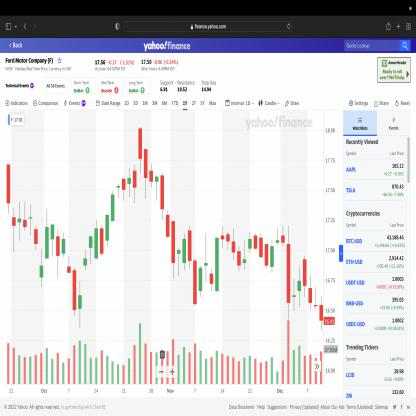Bearish 3 Black Crows: (159, 170, 176, 282)
Bearish Abandoned Baby: (198, 230, 214, 300)
Bearish Kicker: (61, 230, 72, 276)
Bullish Abandoned Baby: (33, 206, 49, 289)
